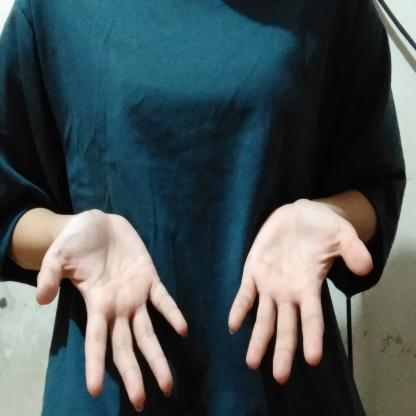what: (2, 180, 382, 414)
